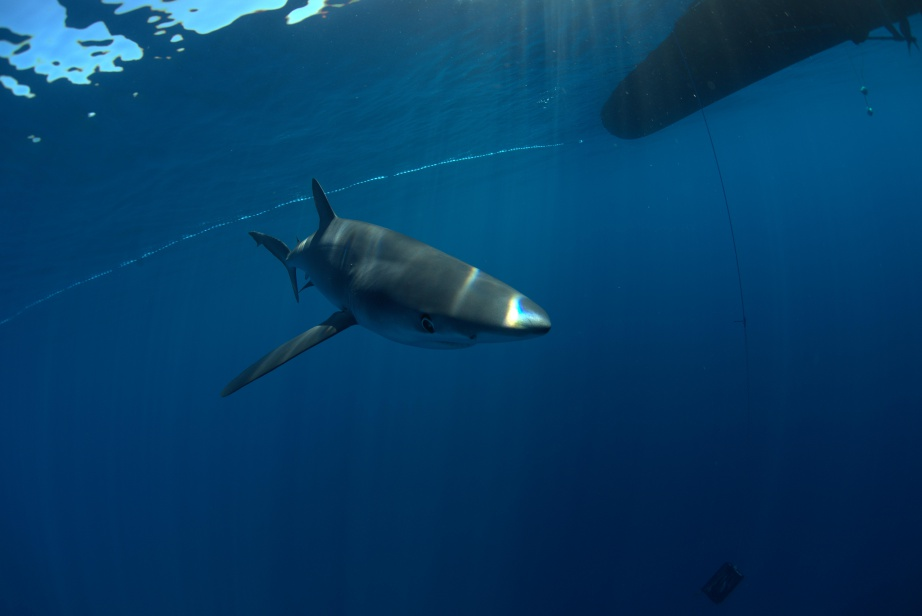Azul: (200, 153, 571, 415)
